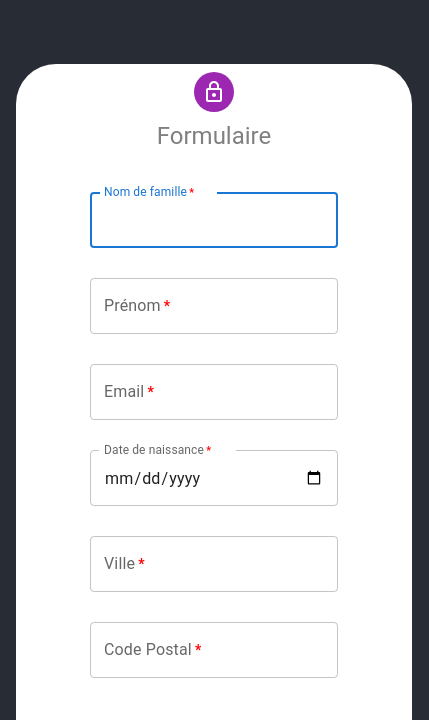
Test: Test d'intégration de l'application › check fonctionnement bouton valider
// recherche par le label associé le i signifie que c'est insensible à la casse
Type "test" into the field labelled "Nom de famille *" at (214, 220), box top-left (90, 192), bottom-right (338, 248)
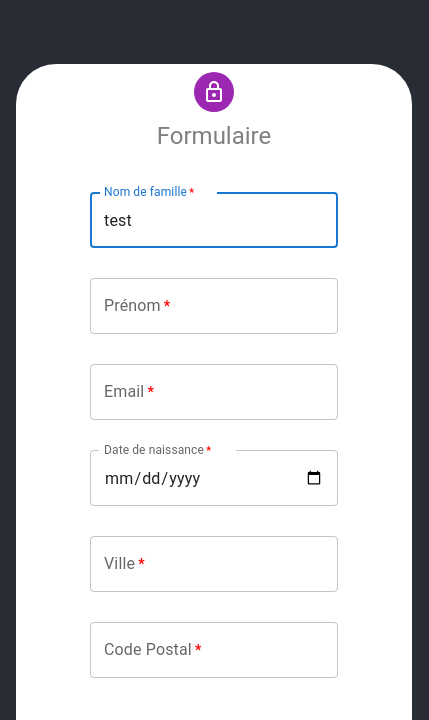
Type "test" into the field labelled "Prénom *" at (214, 306), box top-left (90, 278), bottom-right (338, 334)
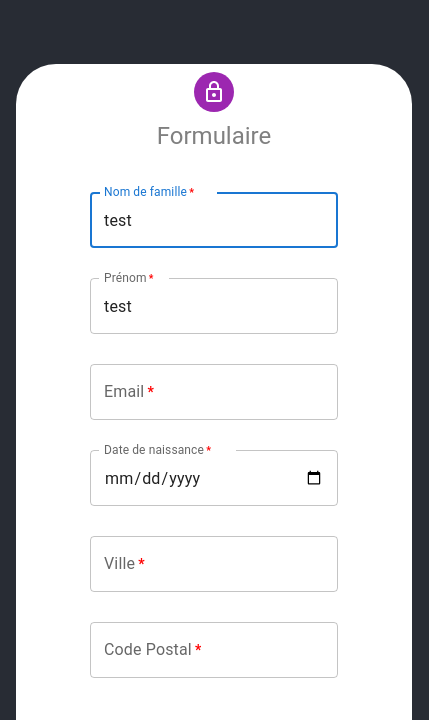
Type "test@test.fr" into the field labelled "Email *" at (214, 392), box top-left (90, 364), bottom-right (338, 420)
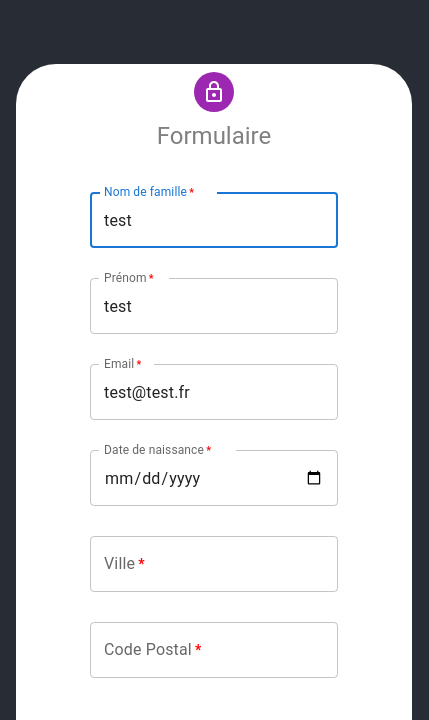
Type "2021-09-01" into the date field labelled "Date de naissance *" at (214, 478), box top-left (90, 450), bottom-right (338, 506)
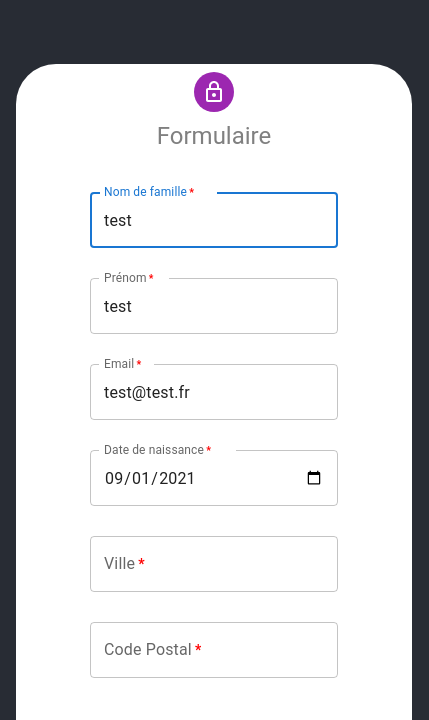
Type "test" into the field labelled "Ville *" at (214, 564), box top-left (90, 536), bottom-right (338, 592)
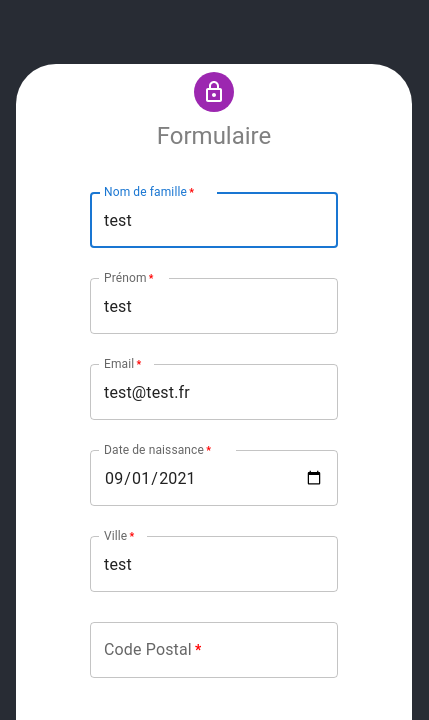
Type "06250" into the field labelled "Code Postal *" at (214, 650), box top-left (90, 622), bottom-right (338, 678)
(page scrolled)
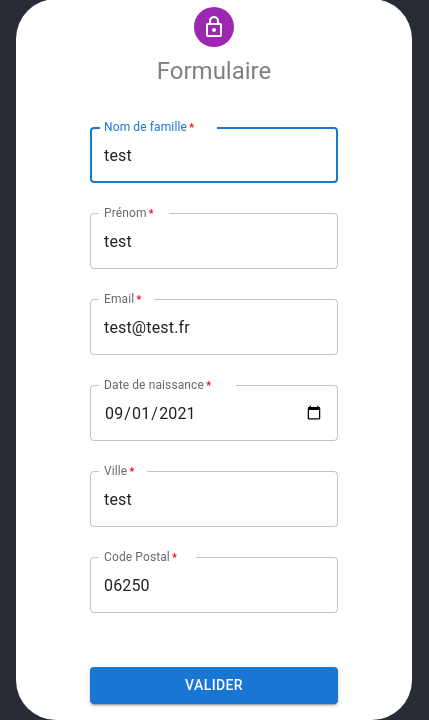
Expected: the button "Valider" is enabled, top-left (90, 667), bottom-right (338, 704)
